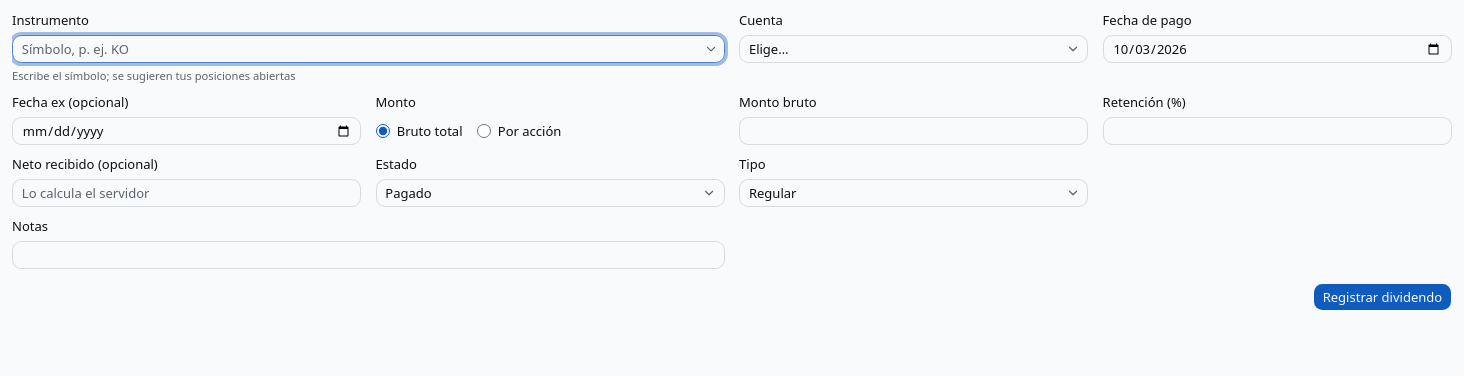
DividendForm › muestra una vista previa marcada como aproximada
This screenshot has width=1464, height=376.
Type "KO" into the dropdown labelled "Instrumento" at (357, 49), box x1=13 y1=35 x2=700 y2=63
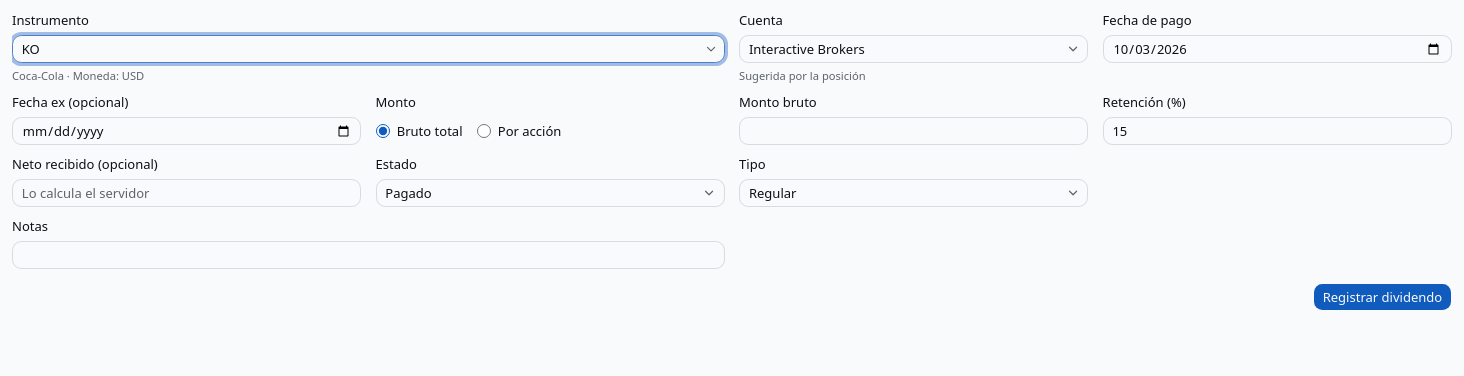
Click the radio button labelled "Por acción" at (484, 131), box x1=477 y1=124 x2=491 y2=138
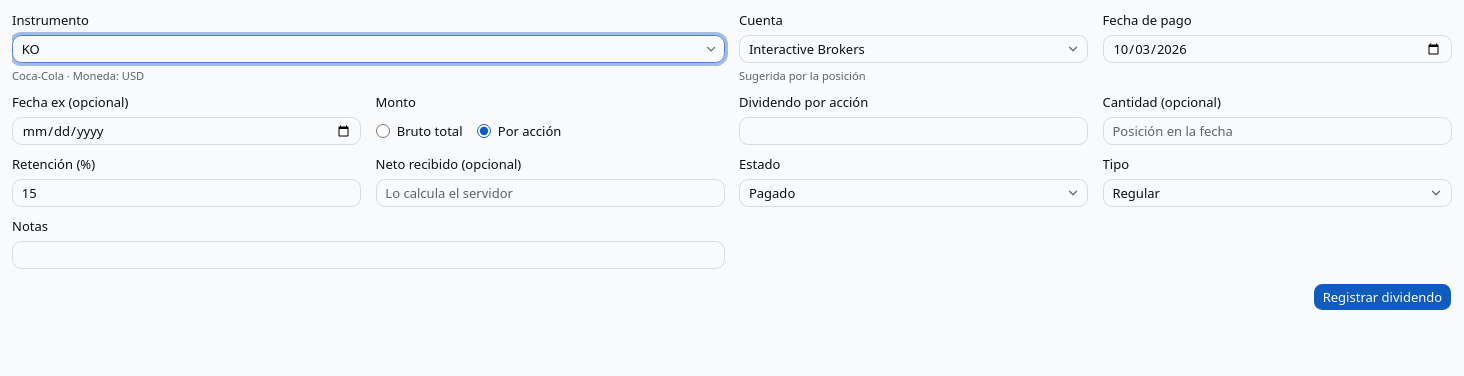
Type "0.51" into the field labelled "Dividendo por acción" at (914, 131), box x1=739 y1=117 x2=1088 y2=145
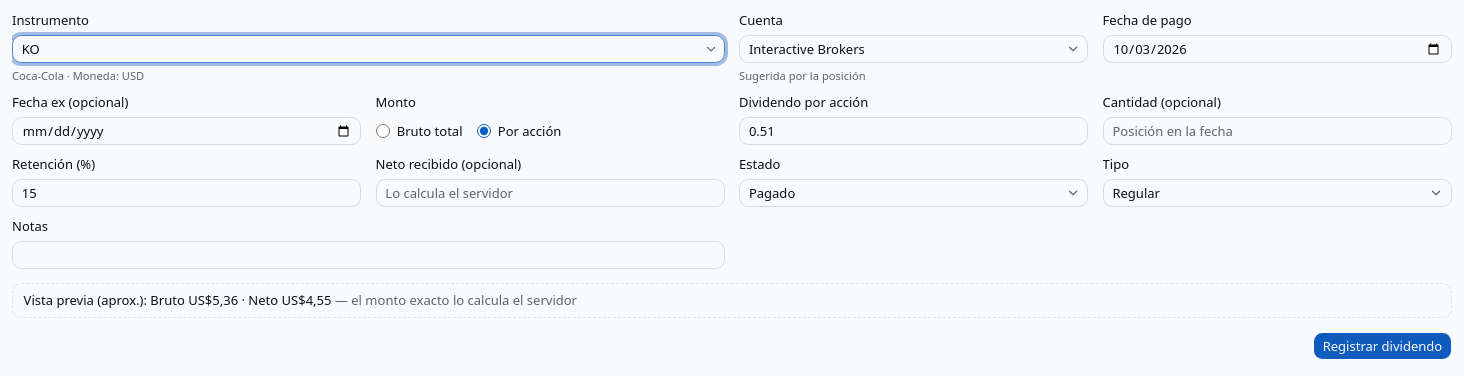
expect the element with test id "dividend-preview" shows "aprox.": met, box x1=24 y1=291 x2=188 y2=309
expect the element with test id "dividend-preview" shows "Bruto US$5,36": met, box x1=12 y1=283 x2=1452 y2=318
expect the element with test id "dividend-preview" shows "Neto US$4,55": met, box x1=12 y1=283 x2=1452 y2=318
